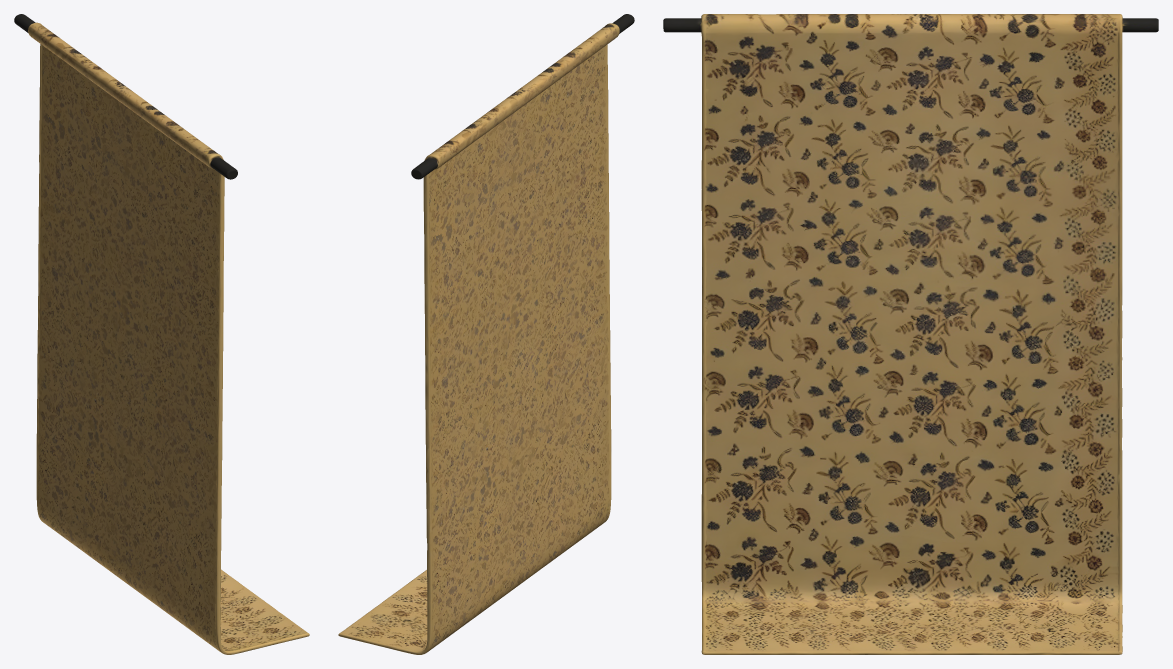
Rendered from Batik_Kartini.glb.
3 renders of one model, left to right at view 1: azimuth 30°, elevation 25°; view 2: azimuth 150°, elevation 25°; view 3: azimuth 270°, elevation 25°, orthographic. The views are drawn at different scales.
Visible parts, largest first — view 1: tripo_node_3f227175-44e5-4dbe-bdd0-7f3b9a618a1f; view 2: tripo_node_3f227175-44e5-4dbe-bdd0-7f3b9a618a1f; view 3: tripo_node_3f227175-44e5-4dbe-bdd0-7f3b9a618a1f.
Part boxes in pixels (x1=…): tripo_node_3f227175-44e5-4dbe-bdd0-7f3b9a618a1f: x1=14, y1=14, x2=309, y2=654; tripo_node_3f227175-44e5-4dbe-bdd0-7f3b9a618a1f: x1=338, y1=14, x2=634, y2=654; tripo_node_3f227175-44e5-4dbe-bdd0-7f3b9a618a1f: x1=663, y1=14, x2=1158, y2=654.
Size of the model in its own units: 0.2063 by 0.9789 by 0.7489.
Materials: 1 (1 with a texture image).
